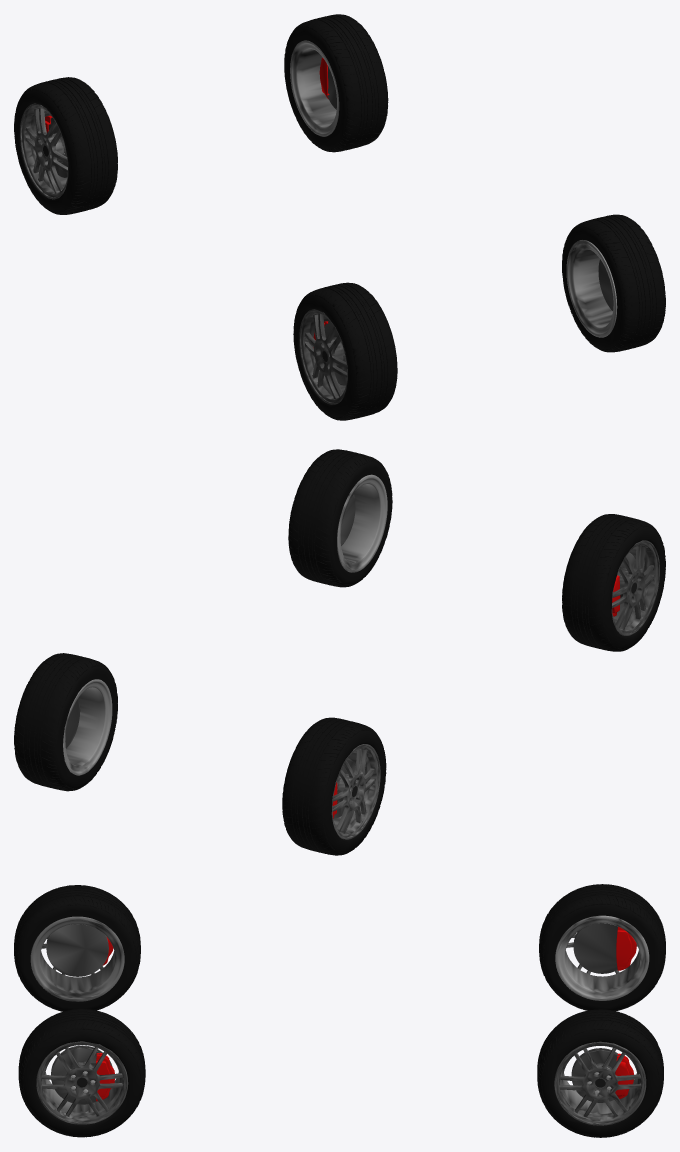
The model's file is evo5_wheels.glb.
3 views of the same model, one above another, from view 1: azimuth 30°, elevation 25°; view 2: azimuth 150°, elevation 25°; view 3: azimuth 270°, elevation 25° (orthographic). The views are drawn at different scales.
Visible parts, largest first — view 1: Tyre.2, Tyre.4, Tyre.3, Tyre.1, Wheel.1, Wheel.4, Wheel.2, Wheel.3; view 2: Tyre.2, Tyre.4, Tyre.3, Tyre.1, Wheel.1, Wheel.4, Wheel.3, Wheel.2; view 3: Tyre.1, Tyre.3, Tyre.4, Tyre.2, Wheel.3, Wheel.1, Wheel.4, Wheel.2, Brake Disc.2, Brake Disc.4, Brake Disc.1, Brake Disc.3 (+3 smaller).
Boxes of the visible parts, <box> form: Tyre.2: <box>293,282,397,420</box>; Tyre.4: <box>14,77,117,214</box>; Tyre.3: <box>284,14,388,152</box>; Tyre.1: <box>562,214,665,352</box>; Wheel.1: <box>566,240,617,337</box>; Wheel.4: <box>20,103,68,199</box>; Wheel.2: <box>299,309,347,404</box>; Wheel.3: <box>290,40,339,136</box>; Tyre.2: <box>562,514,665,651</box>; Tyre.4: <box>282,717,386,855</box>; Tyre.3: <box>14,653,117,791</box>; Tyre.1: <box>288,449,392,587</box>; Wheel.1: <box>337,474,387,572</box>; Wheel.4: <box>331,744,380,839</box>; Wheel.3: <box>63,679,112,775</box>; Wheel.2: <box>611,540,659,635</box>; Tyre.1: <box>18,1009,145,1137</box>; Tyre.3: <box>537,1009,663,1137</box>; Tyre.4: <box>539,884,665,1010</box>; Tyre.2: <box>14,885,140,1011</box>; Wheel.3: <box>554,1041,646,1125</box>; Wheel.1: <box>36,1041,128,1124</box>; Wheel.4: <box>555,915,649,1000</box>; Wheel.2: <box>30,916,124,1001</box>; Brake Disc.2: <box>46,924,108,976</box>; Brake Disc.4: <box>573,923,617,973</box>; Brake Disc.1: <box>51,1045,112,1104</box>; Brake Disc.3: <box>571,1048,619,1102</box>.
Size of the model in its own units: 1.68 by 0.631 by 3.19.
